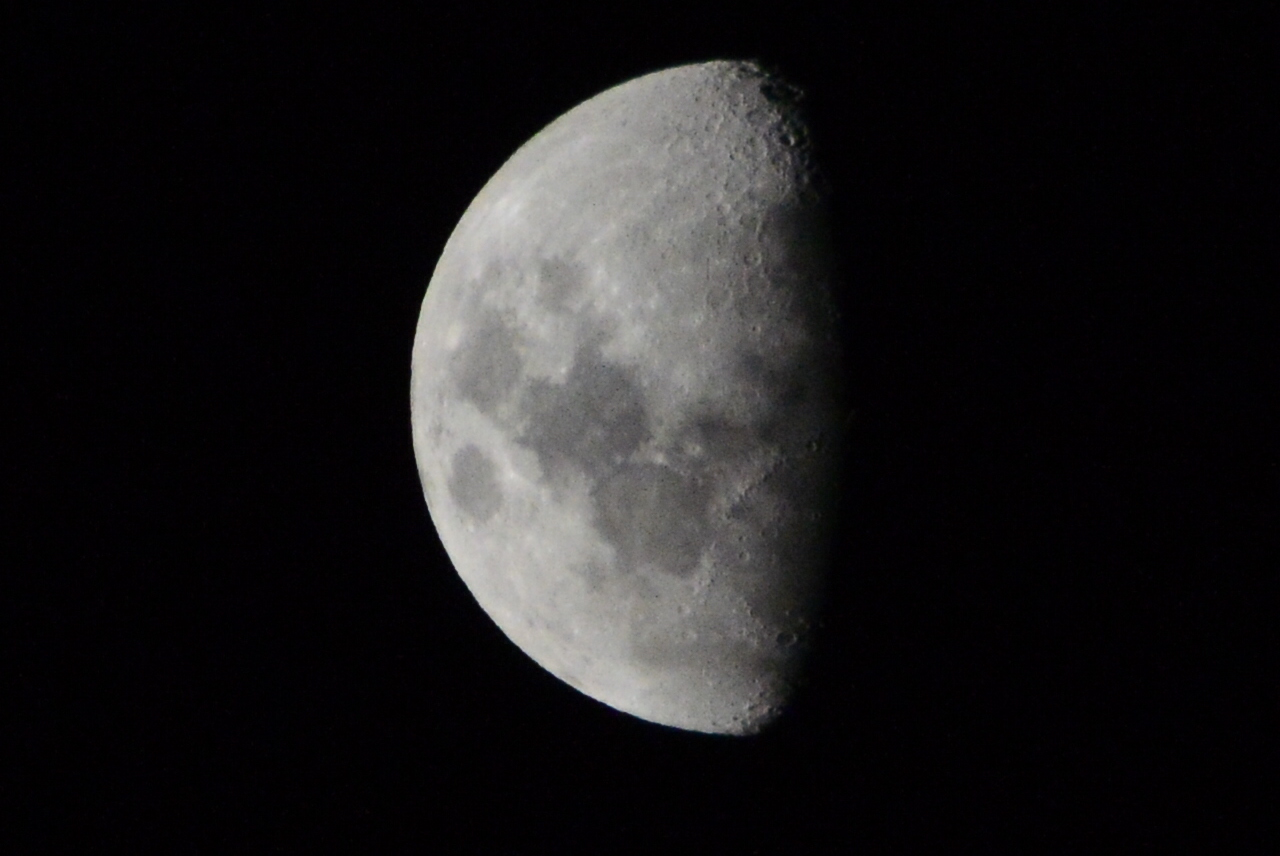crater: (438, 436, 511, 531), (749, 74, 816, 110), (695, 277, 744, 324), (736, 240, 776, 278), (768, 621, 803, 655), (754, 520, 788, 551), (673, 624, 709, 652), (798, 430, 825, 462), (666, 596, 698, 623), (772, 124, 801, 151), (743, 318, 770, 341), (736, 544, 757, 571)
